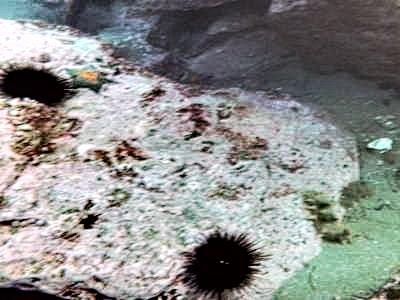urchin: (187, 231, 253, 291), (2, 66, 62, 105)
